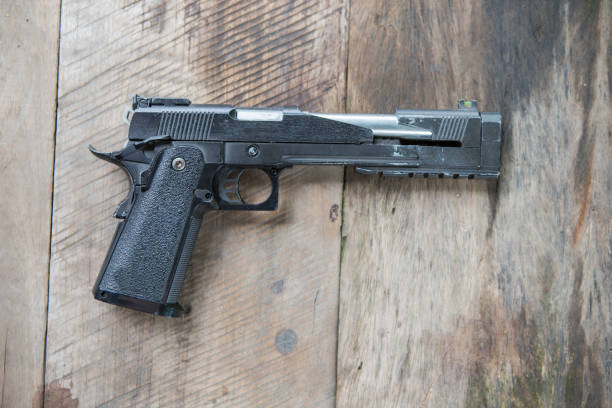gun: (86, 92, 505, 321)
